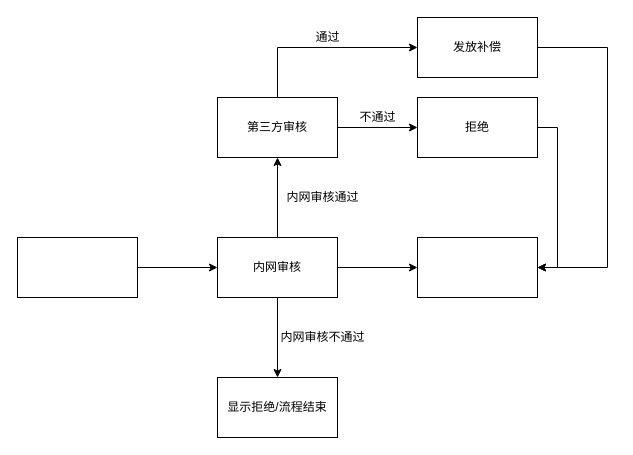
The diagram is 633 pixels wide and 455 high, and some of its shapes have lost their labels. The centre of each missing label's shape, as x and y in pixels:
"外网提交审核" goes at [77,267].
"显示结果" goes at [477,267].
